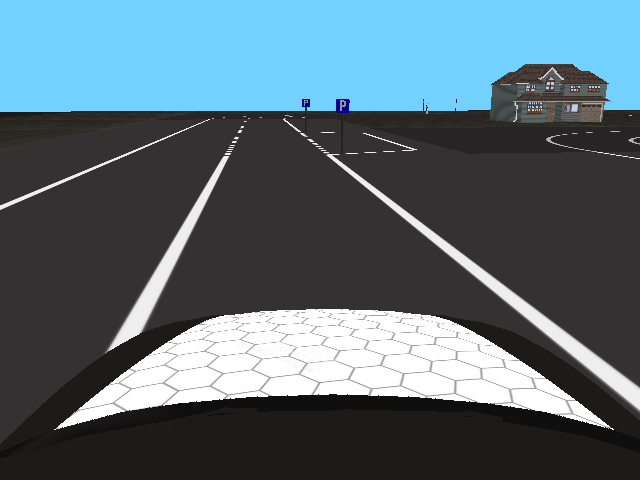parking: (335, 98, 350, 114), (302, 98, 310, 108)
